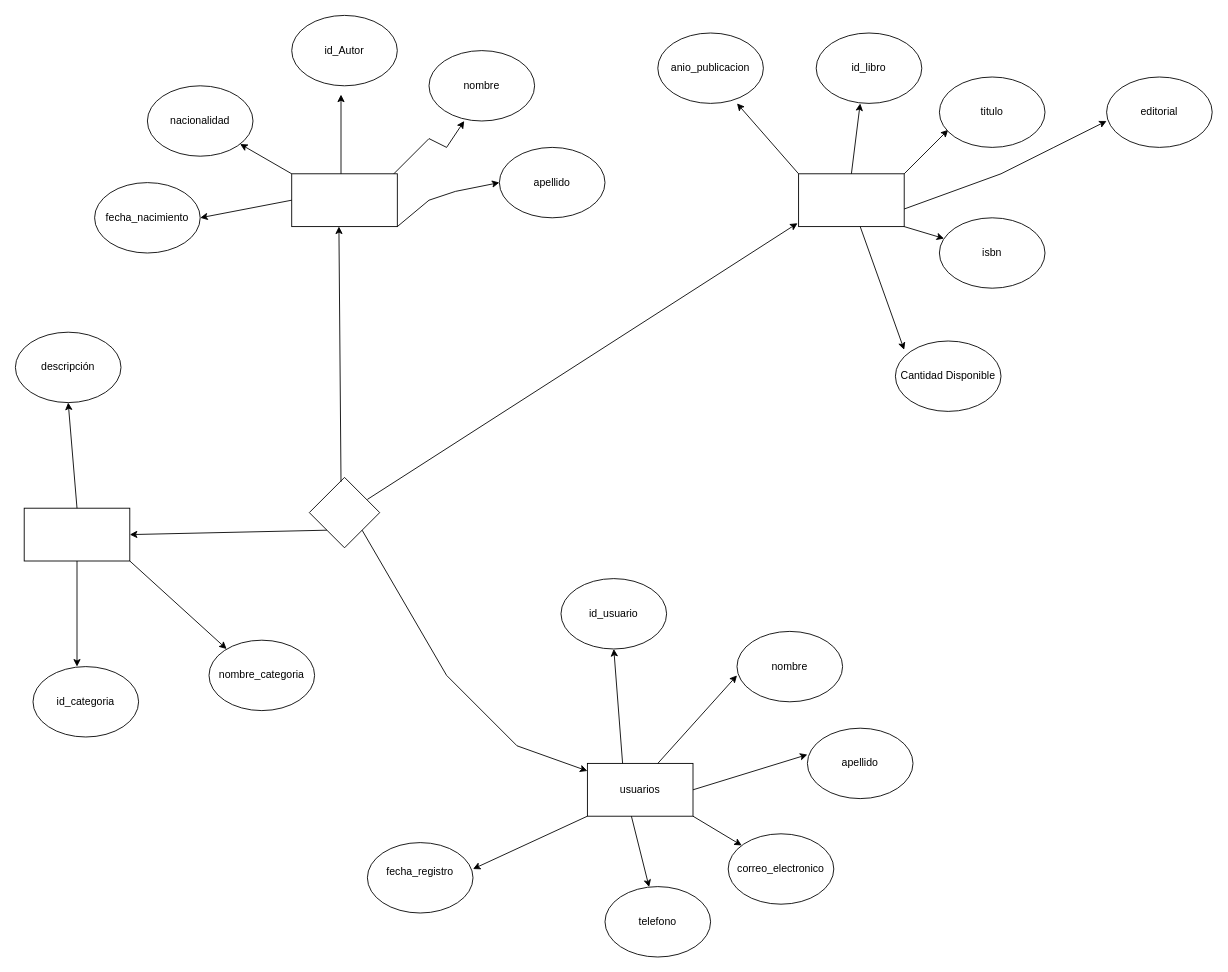
Image size: 1228x972. Some labels were removed from this diagram. The box of each missing label's shape, as (x1, y1, x2, y2) in pixels:
Autores: (291, 173, 397, 227)
Biblioteca: (308, 477, 380, 548)
Categoria: (23, 507, 130, 561)
libro: (798, 173, 904, 227)
